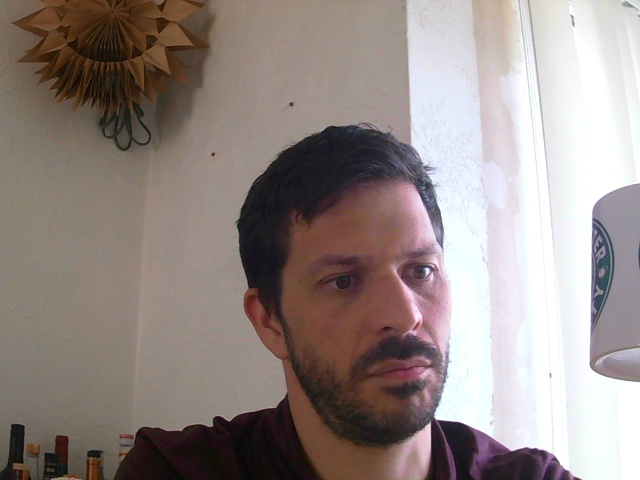mug: (589, 176, 640, 382)
